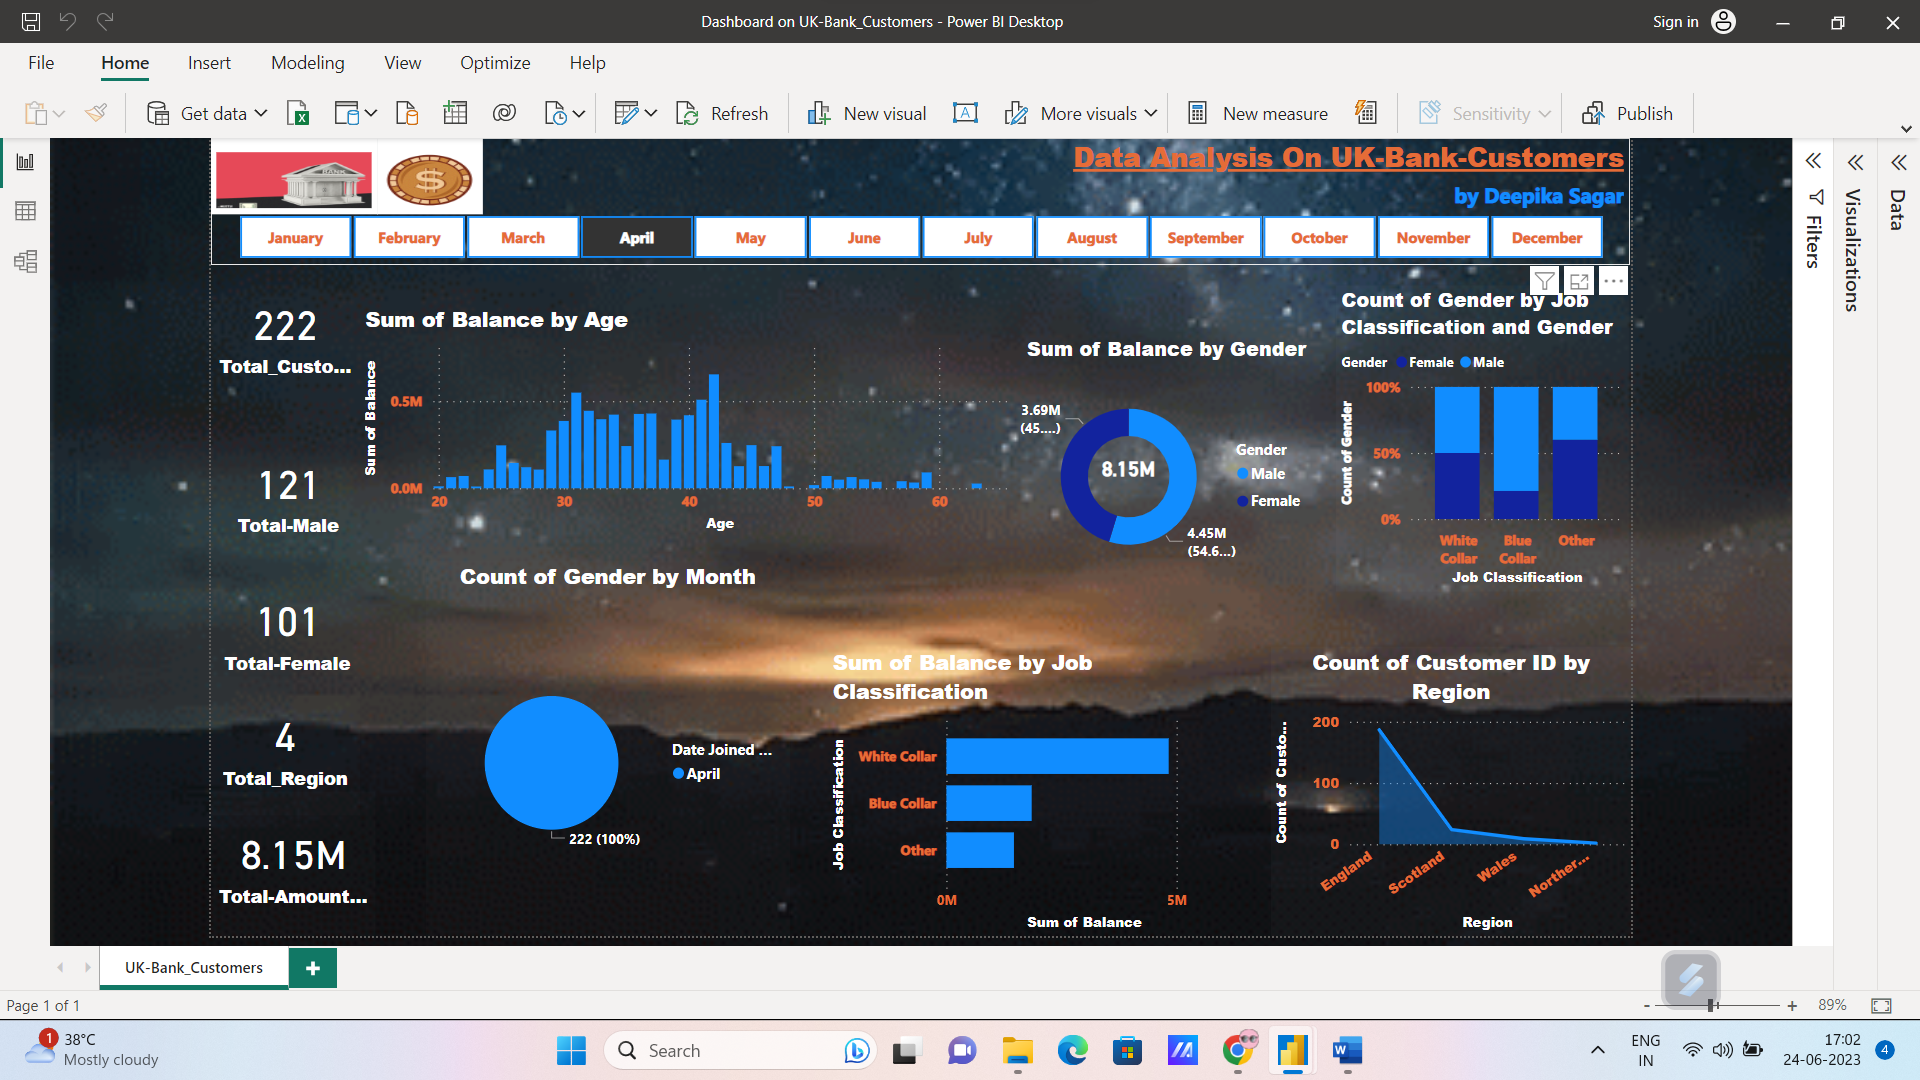

What the dashboard file says about the page in this screenshot:
{"tool":"powerbi","page":{"name":"UK-Bank_Customers","canvas":[1280,720],"ordinal":0},"visuals":[{"type":"card","fields":{"Values":["P6-UK-Bank-Customers.Total_Customers"]},"box":[0,114.9,134.1,123.9],"z":0},{"type":"card","fields":{"Values":["P6-UK-Bank-Customers.Total-Male"]},"box":[0,259.2,139.7,122.8],"z":1000},{"type":"card","fields":{"Values":["P6-UK-Bank-Customers.Total-Female"]},"box":[0,382,137.5,123.9],"z":2000},{"type":"card","fields":{"Values":["P6-UK-Bank-Customers.Total_Region"]},"box":[0,485.6,134.1,125.1],"z":3000},{"type":"card","fields":{"Values":["P6-UK-Bank-Customers.Total-amountOfAccounts"]},"box":[0,589.2,147.9,130.8],"z":4000},{"type":"areaChart","fields":{"Category":["P6-UK-Bank-Customers.Region"],"Y":["CountNonNull(P6-UK-Bank-Customers.Customer ID)"]},"box":[955.8,458.1,324.4,261.6],"z":5000},{"type":"barChart","fields":{"Category":["P6-UK-Bank-Customers.Job Classification"],"Y":["Sum(P6-UK-Bank-Customers.Balance)"]},"box":[555,458.4,371.6,261.6],"z":6000},{"type":"columnChart","fields":{"Category":["P6-UK-Bank-Customers.Age"],"Y":["Sum(P6-UK-Bank-Customers.Balance)"]},"box":[134.5,150.4,591.6,210.3],"z":7000},{"type":"pieChart","fields":{"Category":["P6-UK-Bank-Customers.Date Joined.Variation.Date Hierarchy.Month"],"Y":["CountNonNull(P6-UK-Bank-Customers.Gender)"]},"box":[194.4,381.4,327.6,338.6],"z":8000},{"type":"hundredPercentStackedColumnChart","fields":{"Category":["P6-UK-Bank-Customers.Job Classification"],"Series":["P6-UK-Bank-Customers.Gender"],"Y":["CountNonNull(P6-UK-Bank-Customers.Gender)"]},"box":[1014.6,133.2,264,276.3],"z":9000},{"type":"slicer","title":"Data Analysis On UK-Bank-Customers","fields":{"Values":["P6-UK-Bank-Customers.Date Joined.Variation.Date Hierarchy.Month"]},"box":[0,0,1278.8,115],"z":10000},{"type":"donutChart","fields":{"Category":["P6-UK-Bank-Customers.Gender"],"Y":["Sum(P6-UK-Bank-Customers.Balance)"]},"box":[726.1,177.2,271.4,232.3],"z":11000},{"type":"card","fields":{"Values":["P6-UK-Bank-Customers.Total-AmountOfAccounts"]},"box":[786,259.2,80.7,79.5],"z":12000},{"type":"columnChart","fields":{"Category":["Video.GIF"]},"box":[0,0,150,68.8],"z":13000},{"type":"columnChart","fields":{"Category":["Video.GIF"]},"box":[150,0,95,68.8],"z":14000}]}

Visuals, with their boxes in screenshot pixels (x1, y1, x2, y2):
card - P6-UK-Bank-Customers.Total_Customers: 45, 205, 243, 388
card - P6-UK-Bank-Customers.Total-Male: 45, 418, 252, 600
card - P6-UK-Bank-Customers.Total-Female: 45, 600, 248, 783
card - P6-UK-Bank-Customers.Total_Region: 45, 753, 243, 938
card - P6-UK-Bank-Customers.Total-amountOfAccounts: 45, 907, 264, 1079
areaChart - P6-UK-Bank-Customers.Region x CountNonNull(P6-UK-Bank-Customers.Customer ID): 1459, 713, 1919, 1079
barChart - P6-UK-Bank-Customers.Job Classification x Sum(P6-UK-Bank-Customers.Balance): 866, 713, 1416, 1079
columnChart - P6-UK-Bank-Customers.Age x Sum(P6-UK-Bank-Customers.Balance): 244, 257, 1119, 569
pieChart - P6-UK-Bank-Customers.Date Joined.Variation.Date Hierarchy.Month x CountNonNull(P6-UK-Bank-Customers.Gender): 333, 599, 817, 1079
hundredPercentStackedColumnChart - P6-UK-Bank-Customers.Job Classification x P6-UK-Bank-Customers.Gender: 1546, 232, 1919, 641
"Data Analysis On UK-Bank-Customers" slicer: 45, 35, 1919, 205
donutChart - P6-UK-Bank-Customers.Gender x Sum(P6-UK-Bank-Customers.Balance): 1119, 297, 1521, 641
card - P6-UK-Bank-Customers.Total-AmountOfAccounts: 1208, 418, 1327, 536
columnChart - Video.GIF: 45, 35, 267, 137
columnChart - Video.GIF: 267, 35, 407, 137
